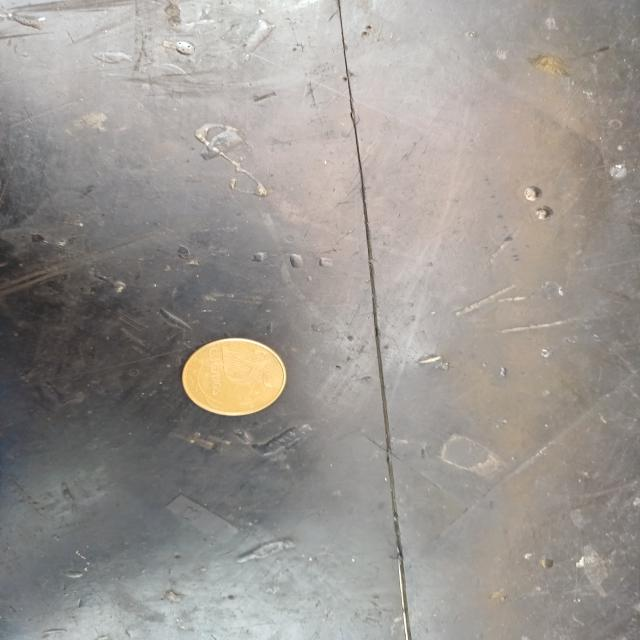25 cents: (180, 334, 287, 418)
